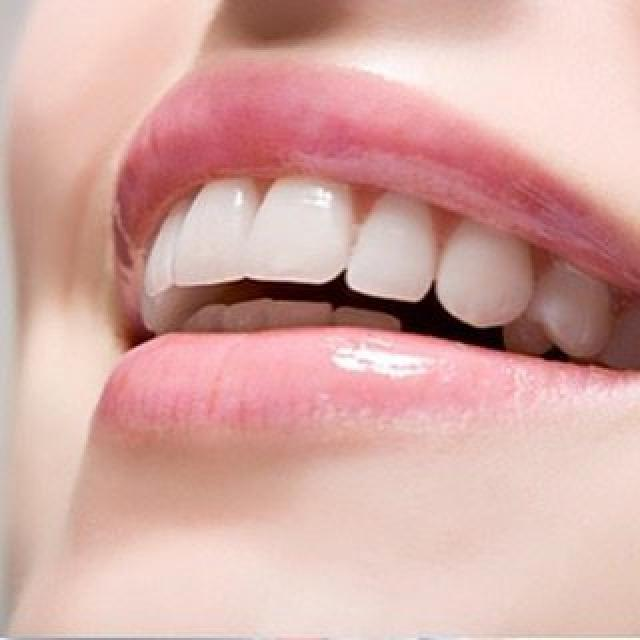tooth: (266, 168, 342, 286), (434, 242, 548, 314), (542, 250, 608, 362), (370, 184, 428, 304), (202, 174, 264, 282), (158, 206, 194, 268), (618, 302, 640, 356)
